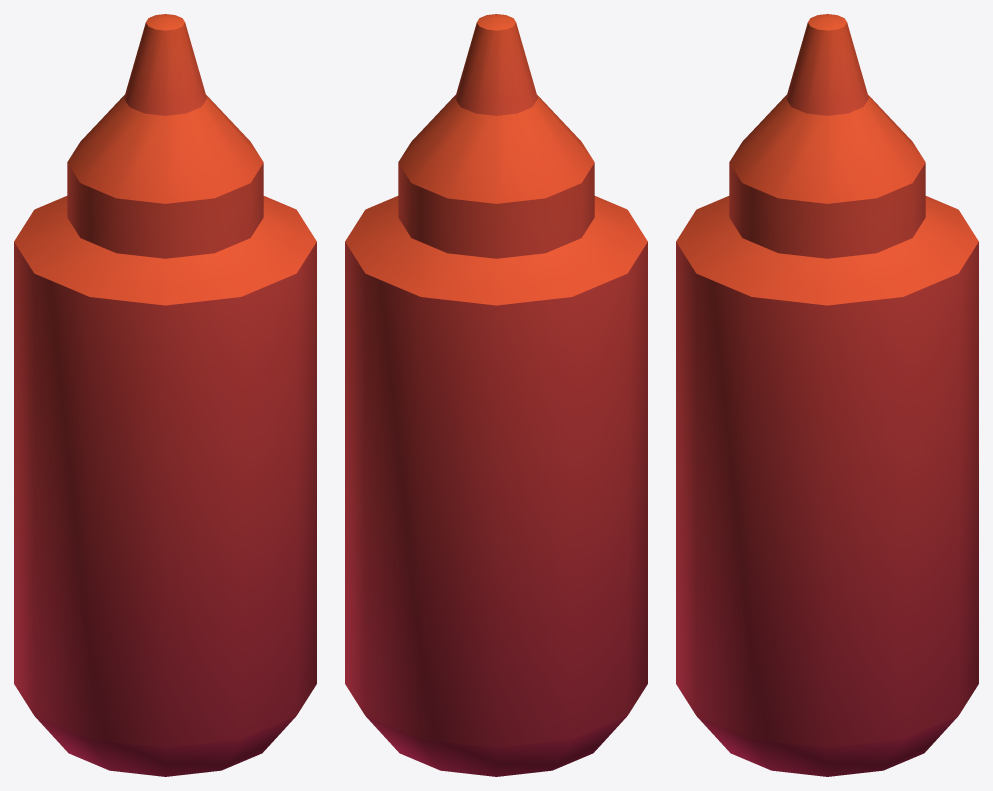
The model's file is ketchup.glb.
3 renders of one model, left to right at view 1: azimuth 30°, elevation 25°; view 2: azimuth 150°, elevation 25°; view 3: azimuth 270°, elevation 25°, orthographic.
Parts seen in each view (by area): view 1: ketchup; view 2: ketchup; view 3: ketchup.
Part boxes in pixels (box(x1,y1,x2,y2)): ketchup: box(14, 14, 316, 776); ketchup: box(345, 14, 647, 776); ketchup: box(676, 14, 978, 776).
Bounding box in the file's own units: 0.3 × 0.7785 × 0.3.
1 material, 1 textured.
